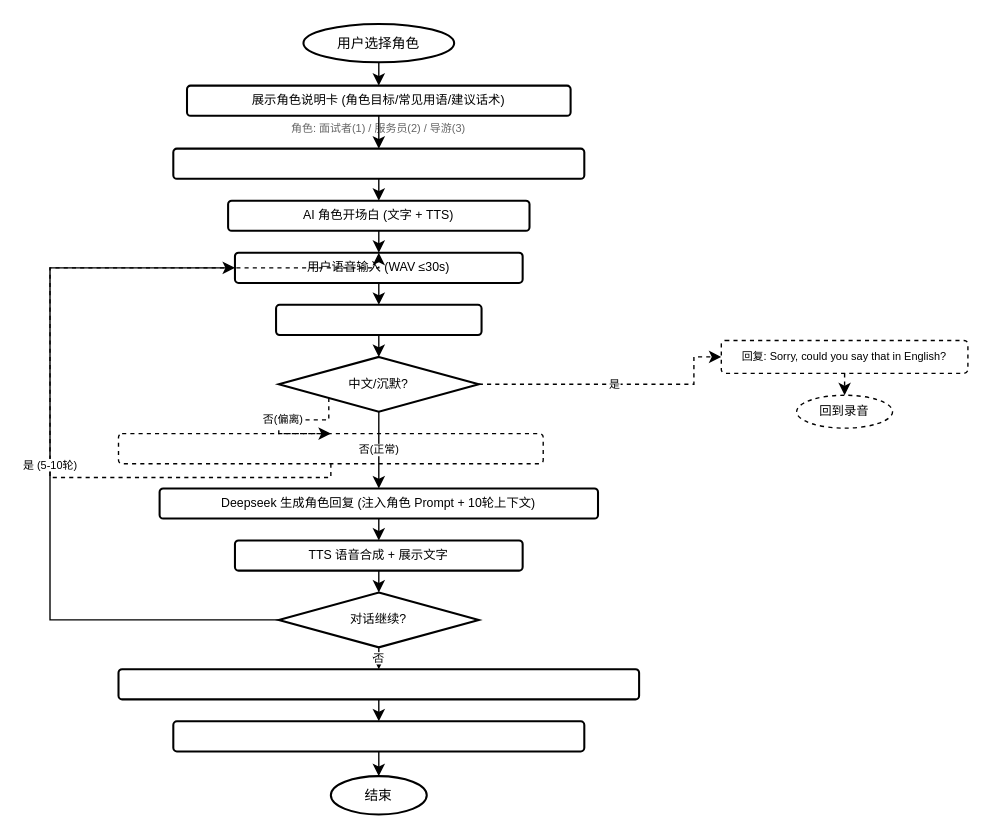
The diagram is 992 pixels wide and 840 high, and some of its shapes have lost their labels. The shapes that lost their labels are listed below. From the top down, each one's centre as x and y in pixels, then its label:
At (378,163): "注入角色 Prompt (AI角色设定 + 场景描述 + 评分侧重)".
At (378,319): "Whisper 转写".
At (330,448): "检测角色偏离 → AI 温和拉回 (如面试: As the interviewer...)".
At (378,684): "四维角色评分: 角色贴合度 40% + 场景礼仪 25% + 专业术语 20% + 应对能力 15%".
At (378,736): "存入 conversation_sessions (含 role_id + 评分) + messages".
